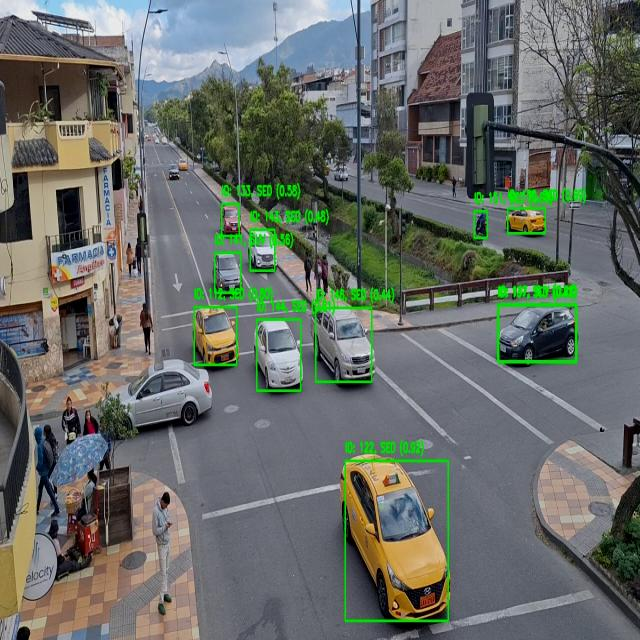CMT: (312, 310, 374, 385), (221, 202, 239, 234)
MOTORCYCLE: (475, 209, 489, 238)
SED: (339, 458, 448, 620), (119, 360, 212, 428), (497, 308, 576, 366), (257, 320, 304, 390), (194, 306, 238, 364), (213, 254, 241, 292), (508, 208, 546, 233)
SUV: (248, 229, 275, 269)
